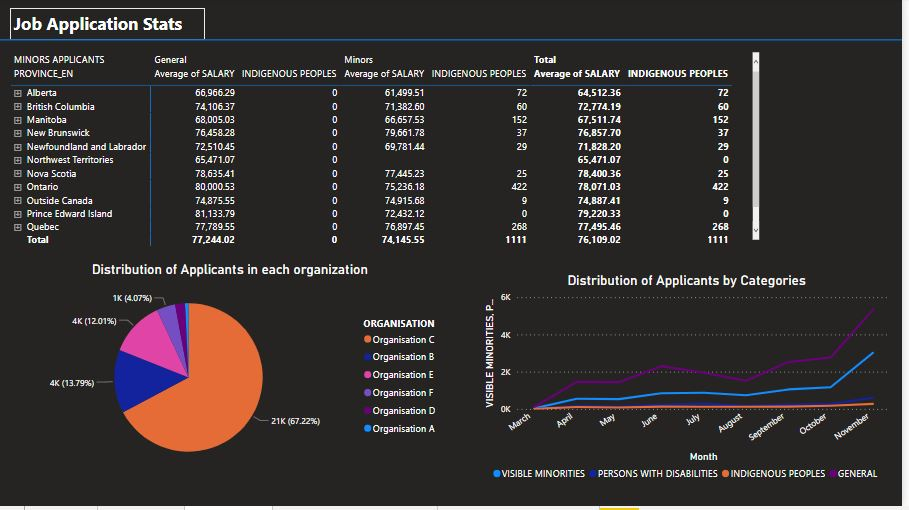

The page's visual inventory and layout, read from the dashboard file:
{"tool":"powerbi","page":{"name":"Details 2","canvas":[1280,720],"ordinal":2},"visuals":[{"type":"pieChart","title":"Distribution of Applicants in each organization","fields":{"Category":["Data.ORGANISATION"],"Y":["Data.Total Applicants"]},"box":[17.2,373.3,623.2,307.7],"z":0},{"type":"lineChart","title":"Distribution of Applicants by Categories","fields":{"Category":["Data.APPLICATION DATE.Variation.Date Hierarchy.Month"],"Y":["Sum(Data.VISIBLE MINORS)","Sum(Data.PERSONS WITH DISABILITIES)","Sum(Data.INDIGENOUS PEOPLES)","Data.General"]},"box":[682.5,388.9,585.7,304.6],"z":2000},{"type":"pivotTable","fields":{"Values":["Sum(Data.SALARY)","Sum(Data.INDIGENOUS PEOPLES)"],"Rows":["Data.PROVINCE_EN","Data.ORGANISATION"],"Columns":["Data.MINORS APPLICANTS"]},"box":[12.5,71.8,1071.4,284.3],"z":3000},{"type":"textbox","box":[17.2,14.1,276.4,45.3],"z":4000},{"type":"shape","box":[0,46.9,1280.7,25],"z":5000}]}

Visuals, with their boxes in screenshot pixels (x1, y1, x2, y2), scaled from the page's 1280x720 canvas onto the 909x510 screenshot:
"Distribution of Applicants in each organization" pieChart: locate(12, 264, 455, 482)
"Distribution of Applicants by Categories" lineChart: locate(485, 275, 901, 491)
pivotTable - Sum(Data.SALARY) x Sum(Data.INDIGENOUS PEOPLES): locate(9, 51, 770, 252)
textbox: locate(12, 10, 209, 42)
shape: locate(0, 33, 908, 51)
